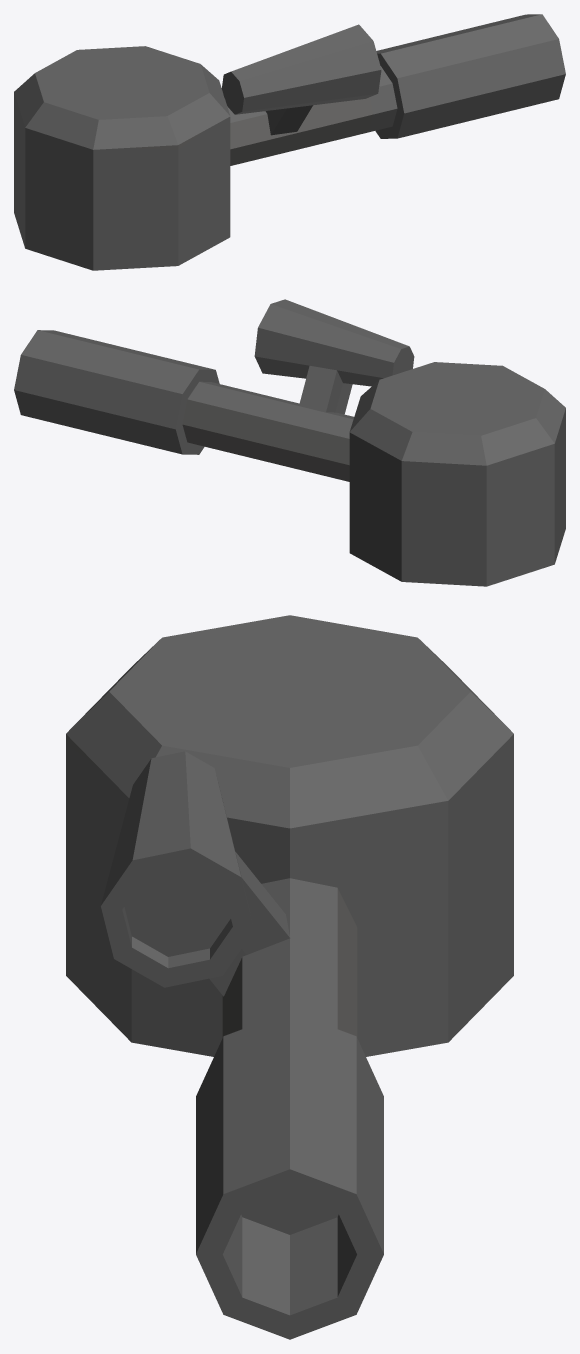
The model's file is Cannon.fbx.
The picture shows the model from 3 angles, top to bottom: view 1: azimuth 30°, elevation 25°; view 2: azimuth 150°, elevation 25°; view 3: azimuth 270°, elevation 25°; orthographic projection. The views are drawn at different scales.
Visible parts, largest first — view 1: Cannon; view 2: Cannon; view 3: Cannon.
Boxes of the visible parts, x1=… form: Cannon: x1=14, y1=14, x2=565, y2=270; Cannon: x1=14, y1=299, x2=565, y2=586; Cannon: x1=66, y1=615, x2=513, y2=1339.
Bounding box in the file's own units: 160 × 49.36 × 60.
